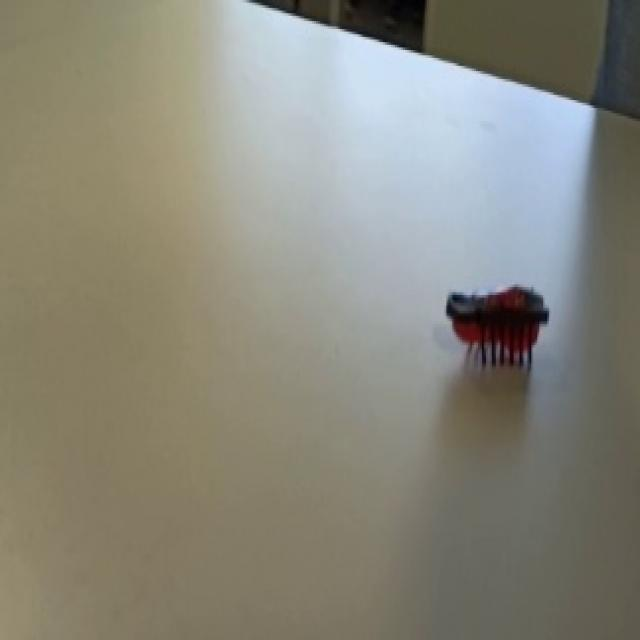2_NanoBug_Negro: (429, 262, 556, 382)
